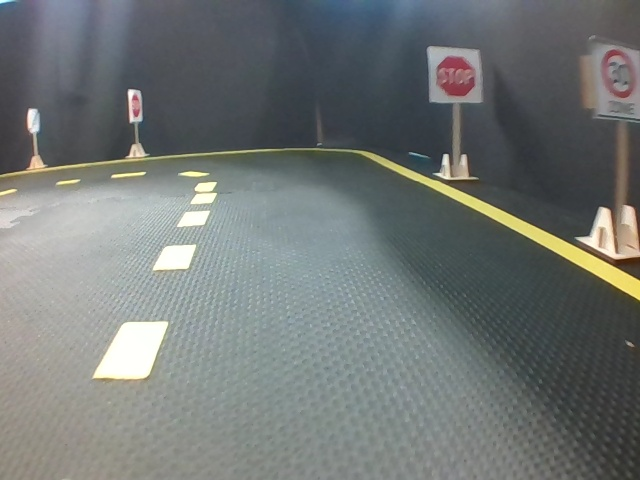30: (591, 39, 640, 120)
no30: (26, 107, 39, 132)
stop: (429, 48, 481, 101), (127, 90, 141, 122)
